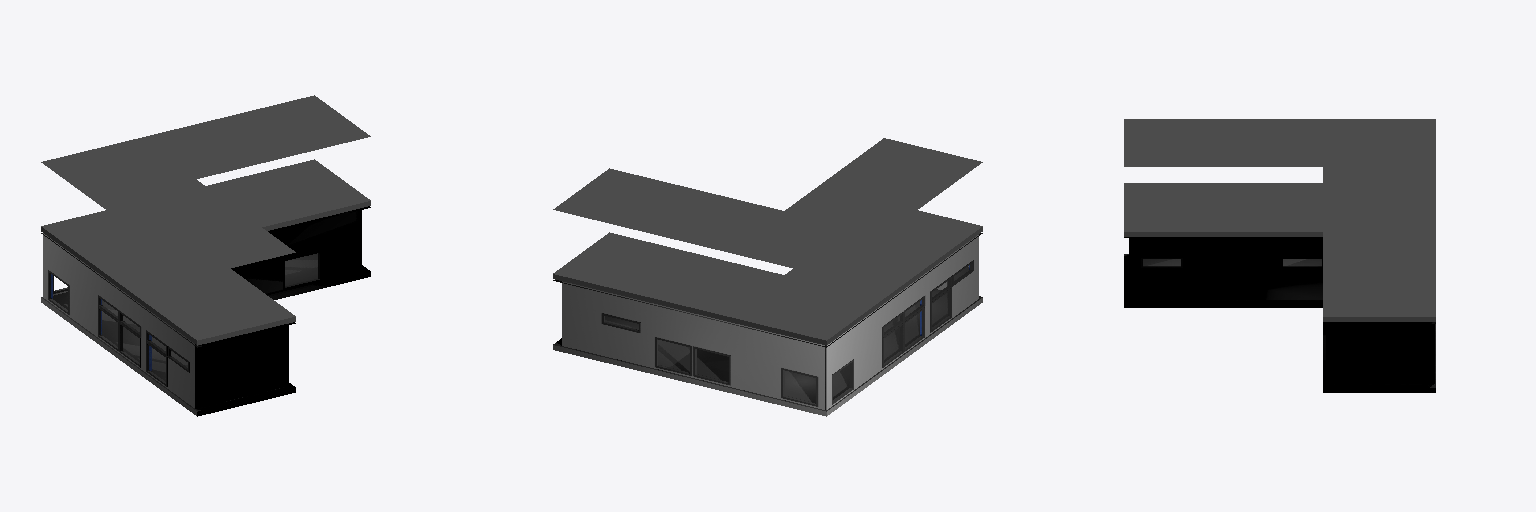
3 views of the same model, side by side, from view 1: azimuth 30°, elevation 25°; view 2: azimuth 150°, elevation 25°; view 3: azimuth 270°, elevation 25° (orthographic).
Visible parts, largest first — view 1: Box038, Box021, Box023, Box037; view 2: Box038, Box021, Box023, Box037; view 3: Box038, Box021, Box023.
Part boxes in pixels (bbox=[...]): Box038: bbox=[41, 95, 370, 345]; Box021: bbox=[43, 208, 361, 408]; Box023: bbox=[41, 206, 370, 416]; Box037: bbox=[48, 251, 320, 386]; Box038: bbox=[553, 138, 982, 345]; Box021: bbox=[562, 235, 978, 409]; Box023: bbox=[553, 233, 982, 416]; Box037: bbox=[602, 260, 973, 406]; Box038: bbox=[1124, 119, 1435, 321]; Box021: bbox=[1129, 238, 1434, 383]; Box023: bbox=[1124, 237, 1435, 392].
Size of the model in its own units: 31.91 by 15.6 by 31.58.
Materials: 7 (5 with a texture image).